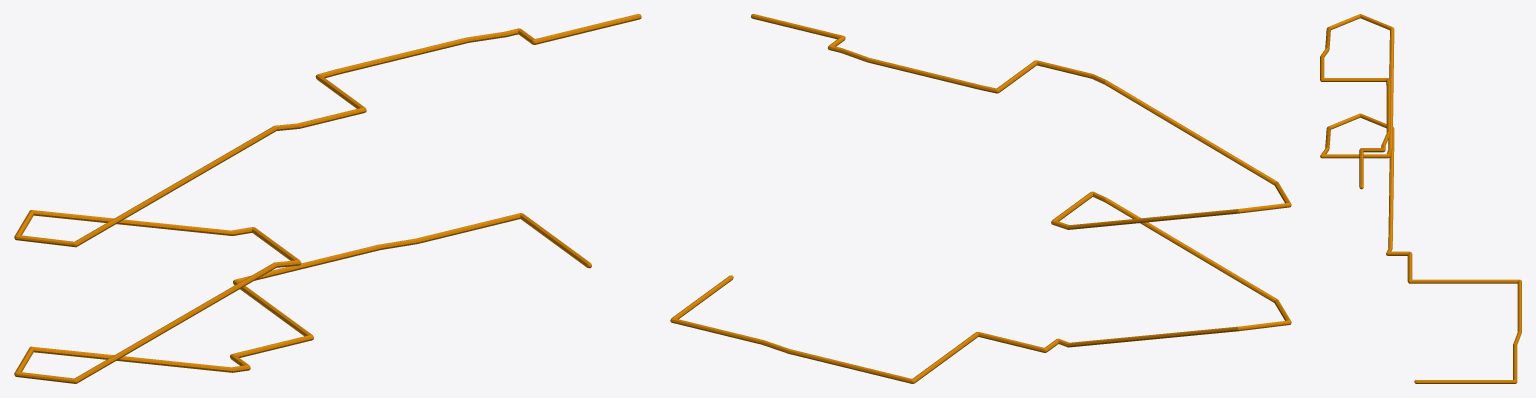
The picture shows the model from 3 angles, left to right: view 1: azimuth 30°, elevation 25°; view 2: azimuth 150°, elevation 25°; view 3: azimuth 270°, elevation 25°; orthographic projection. The views are drawn at different scales.
Bounding box in the file's own units: 2402 × 1020 × 920.
